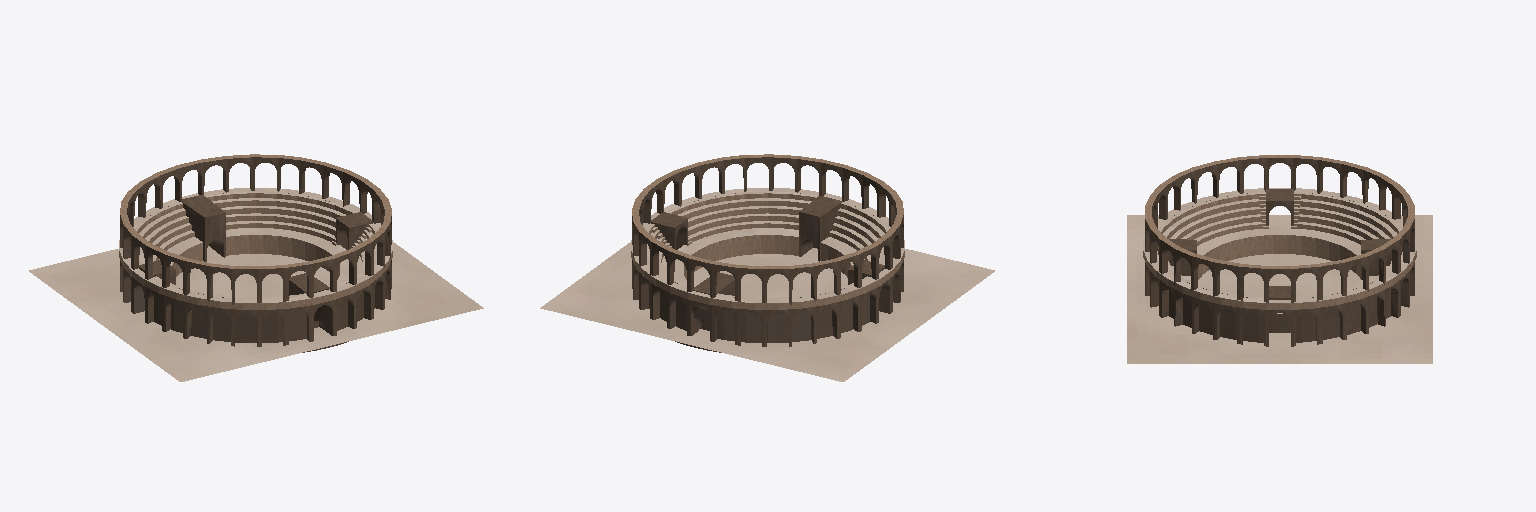
3 renders of one model, left to right at view 1: azimuth 30°, elevation 25°; view 2: azimuth 150°, elevation 25°; view 3: azimuth 270°, elevation 25°, orthographic.
Parts seen in each view (by area): view 1: Arena_draft.lwo; view 2: Arena_draft.lwo; view 3: Arena_draft.lwo.
Part boxes in pixels (x1,y1,x2,y2): Arena_draft.lwo: (29,154,483,381); Arena_draft.lwo: (540,154,994,381); Arena_draft.lwo: (1127,155,1432,363).
Bounding box in the file's own units: 39.48 × 10.95 × 34.38.
1 materials, 1 textured.